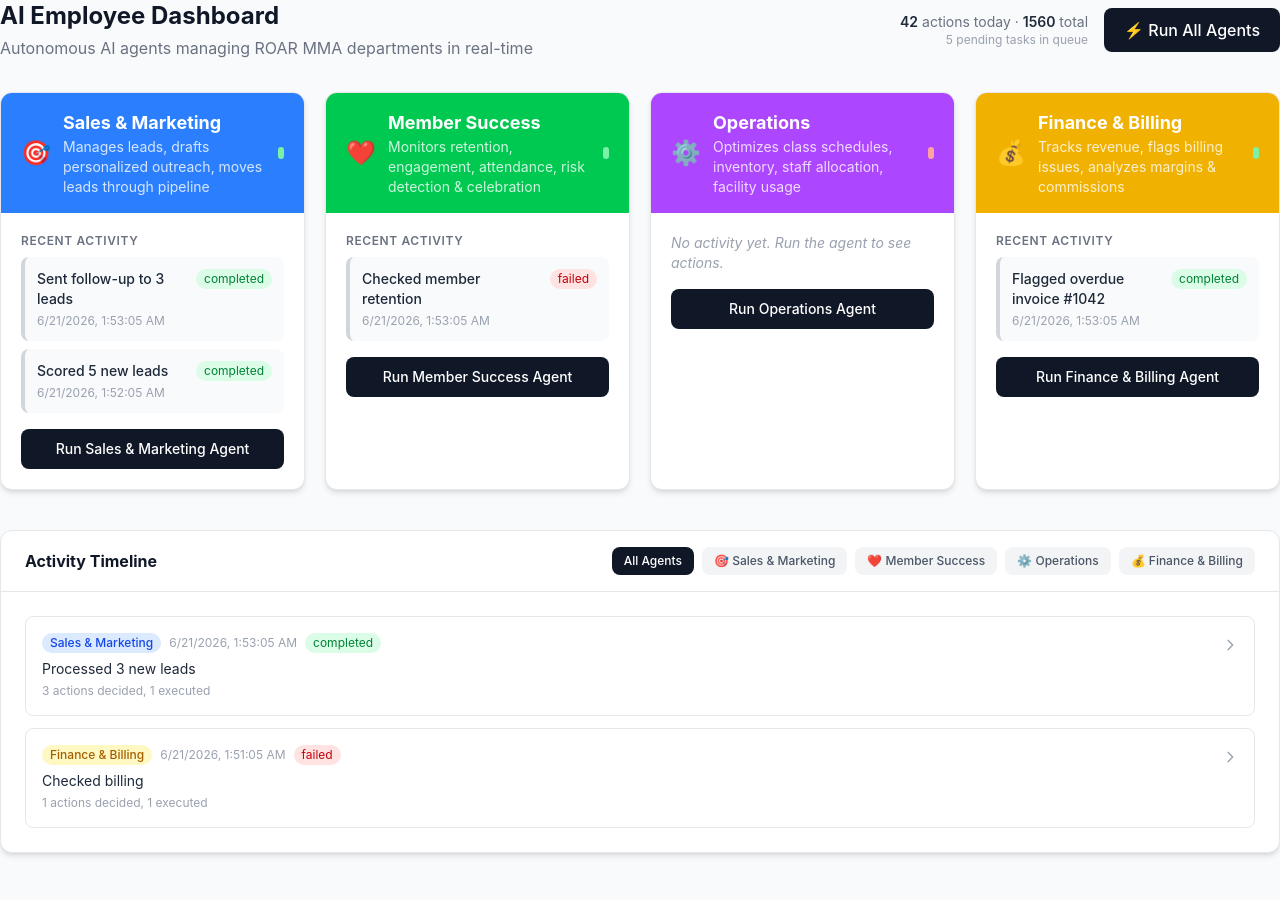
Test: AgentTracking › opens detail drawer when clicking a log entry
Click the text "Processed 3 new leads" at (119, 668), box [42,660,196,677]
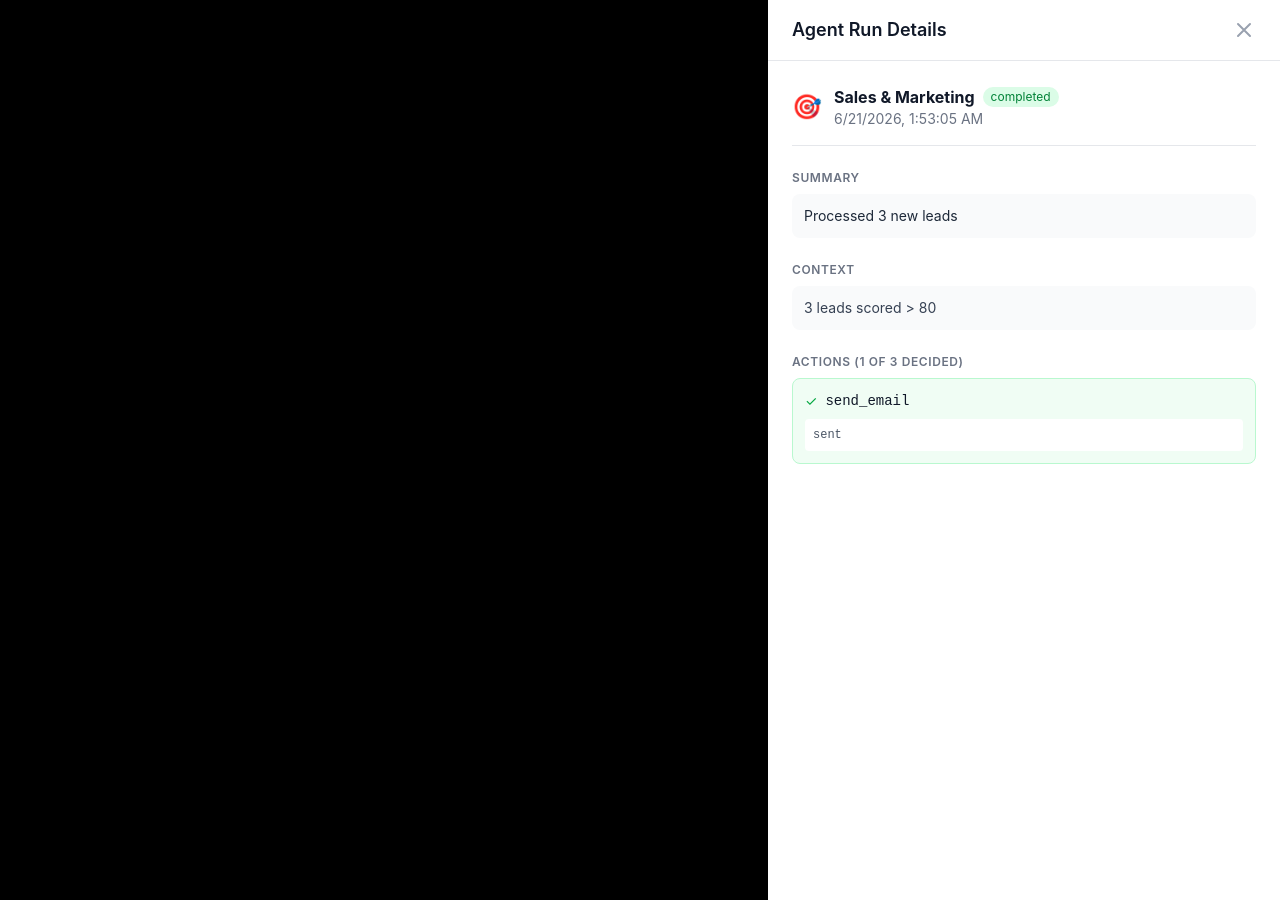
Expected: the heading "Agent Run Details" is shown, [792,16,947,44]
Expected: the heading "Summary" is shown, [792,170,860,185]
